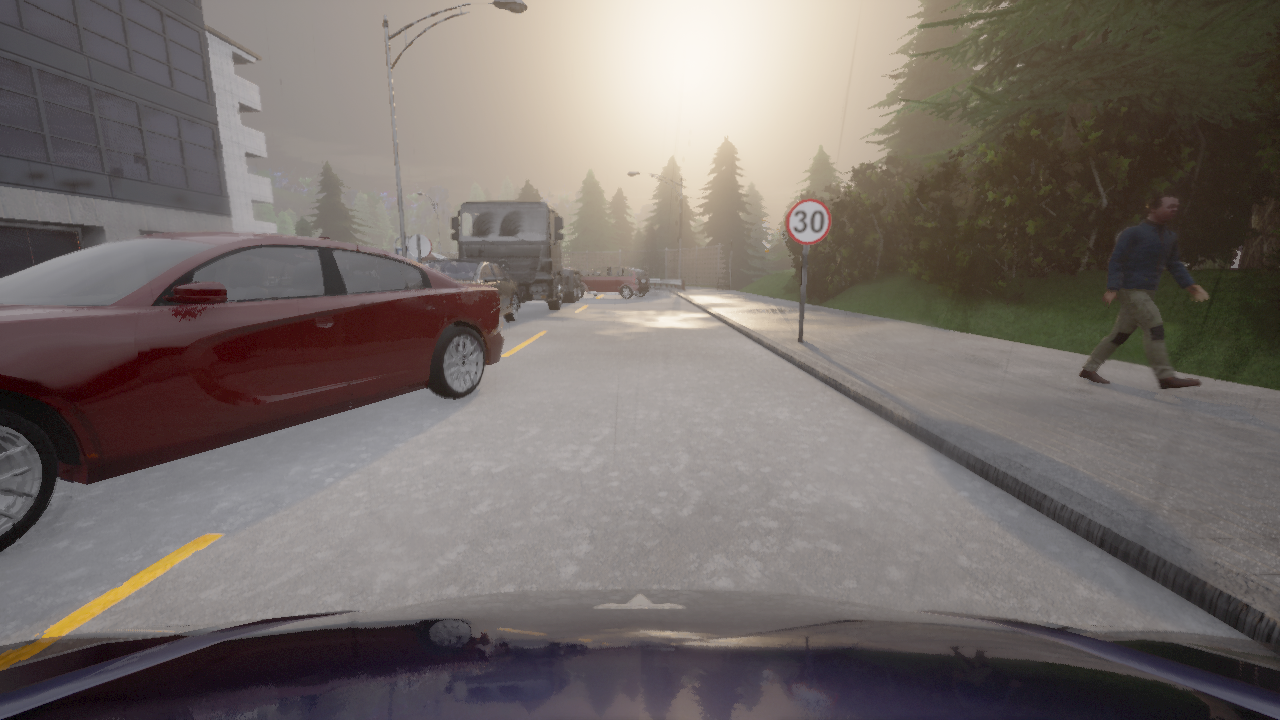cyclist: (0, 588, 1279, 719), (0, 231, 505, 551), (451, 201, 580, 310), (424, 259, 520, 321), (580, 266, 649, 298), (563, 267, 582, 276), (580, 269, 593, 275)
pedestrian: (1078, 191, 1207, 389)
